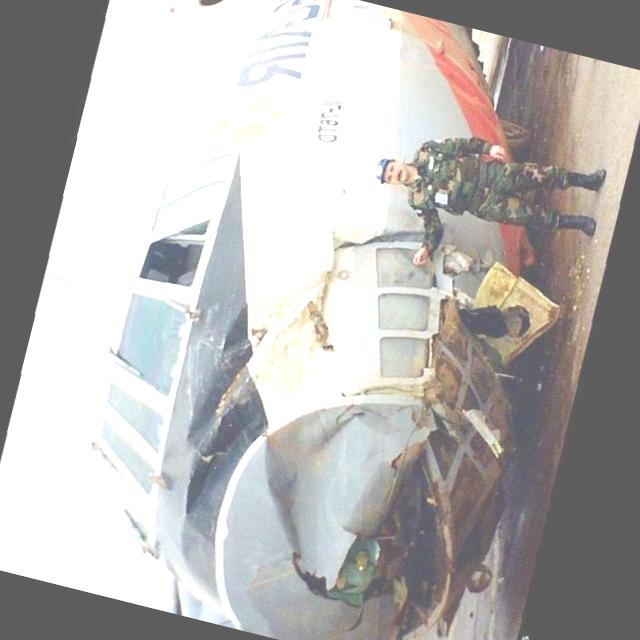dent: (252, 401, 348, 522)
